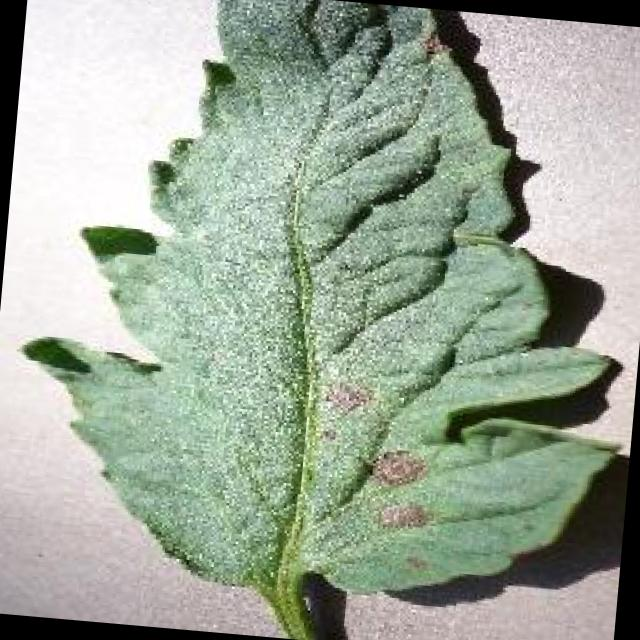Tomato_Early_Blight: (178, 231, 552, 586)
